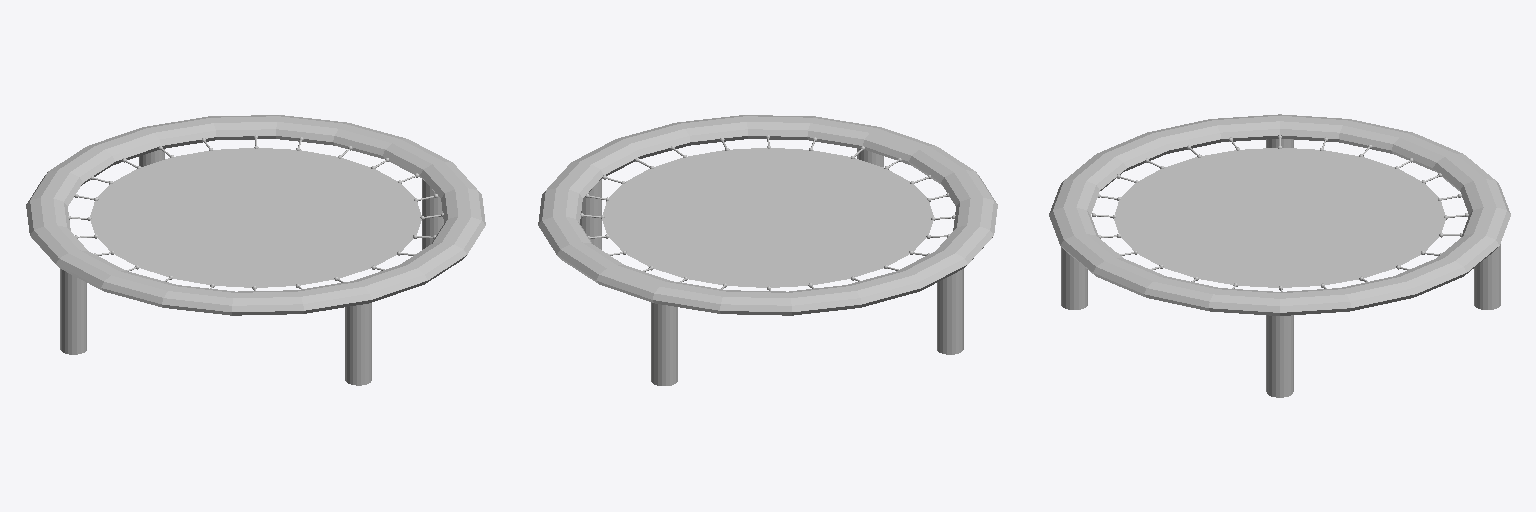
File: Trampoline.obj
3 views of the same model, side by side, from view 1: azimuth 30°, elevation 25°; view 2: azimuth 150°, elevation 25°; view 3: azimuth 270°, elevation 25° (orthographic).
Parts seen in each view (by area): view 1: pDisc1, pTorus1, group2 pCylinder3, group2 pCylinder1, group1_pSphere1, group2 pCylinder2; view 2: pDisc1, pTorus1, pCylinder4 group2, group2 pCylinder1, group1_pSphere1, group2 pCylinder2; view 3: pDisc1, pTorus1, group2 pCylinder2, pCylinder4 group2, group2 pCylinder3, group1_pSphere1.
Part boxes in pixels (x1,y1,x2,y2): pDisc1: (90,148,421,287); pTorus1: (26,115,485,315); group2 pCylinder3: (345,303,371,385); group2 pCylinder1: (60,269,86,354); group1_pSphere1: (68,135,443,290); group2 pCylinder2: (422,179,443,249); pDisc1: (602,148,933,287); pTorus1: (538,115,997,315); pCylinder4 group2: (651,302,677,385); group2 pCylinder1: (937,269,963,354); group1_pSphere1: (580,135,955,290); group2 pCylinder2: (580,179,601,249); pDisc1: (1114,148,1445,287); pTorus1: (1049,114,1510,315); group2 pCylinder2: (1266,315,1293,397); pCylinder4 group2: (1474,244,1500,309); group2 pCylinder3: (1061,247,1087,309); group1_pSphere1: (1092,135,1468,291).
Bounding box in the file's own units: 2.2 × 0.5113 × 2.2.